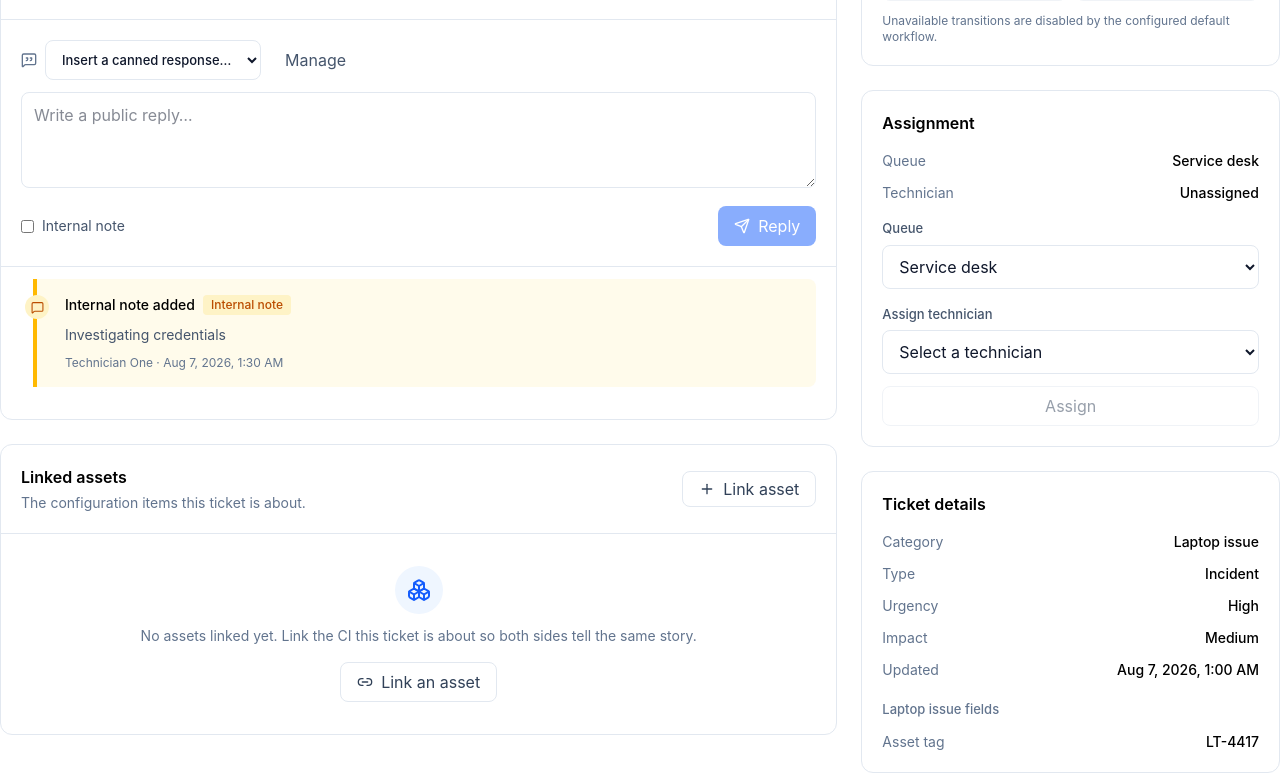
Scenario: TicketDetailPage › links an asset from the picker and shows it on the ticket
(page scrolled)
Click the button "Link an asset" at {"x": 419, "y": 682}, box [340,662,497,702]
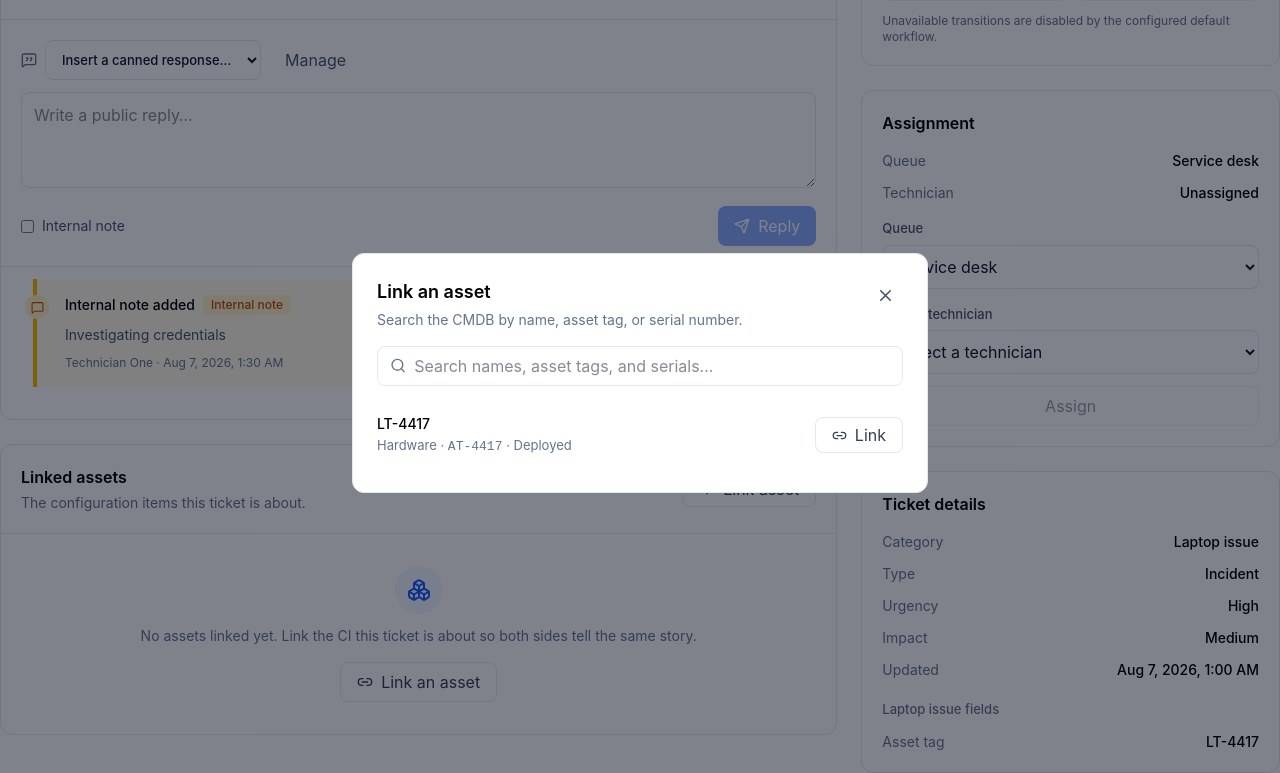
Expected: the text "LT-4417" is shown, [377,415,430,432]
Click the button "Link" at {"x": 859, "y": 435}, box [815,417,903,453]
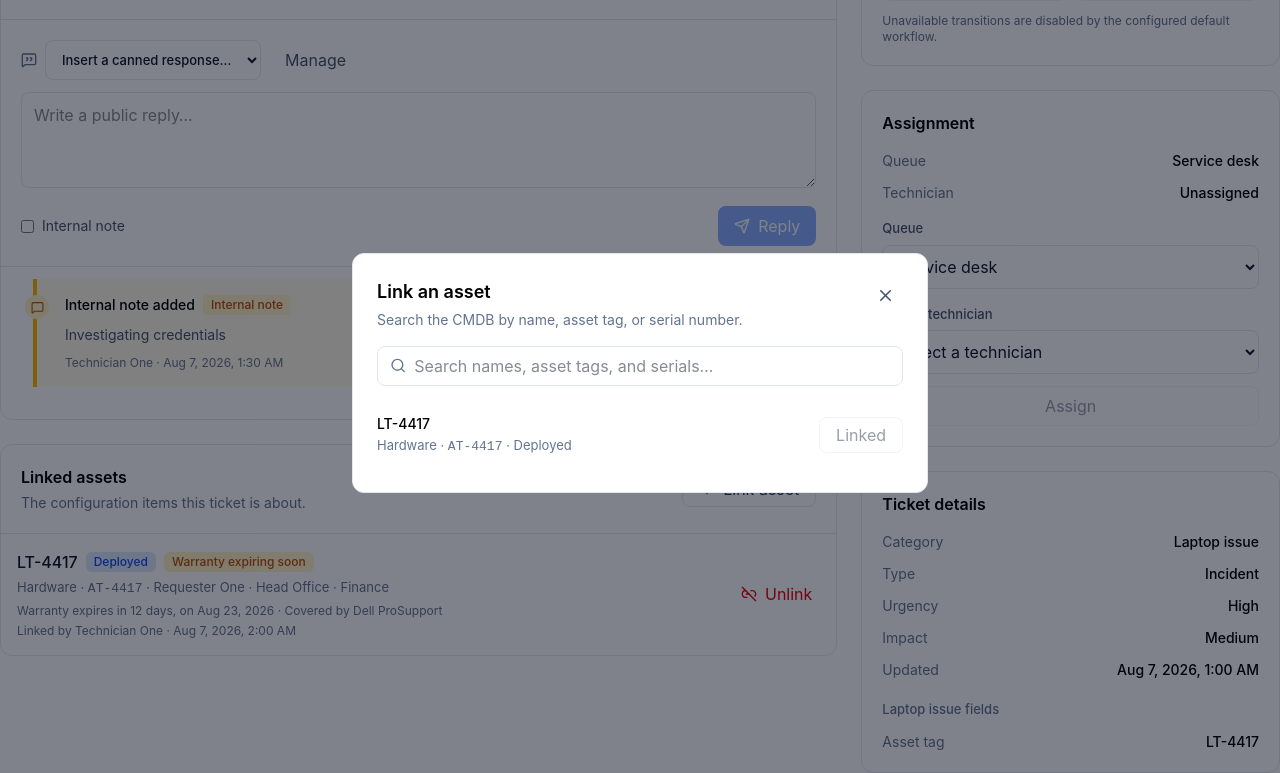
Expected: the text "Linked by Technician One · Aug 7, 2026, 2:00 AM" is shown, [17,622,296,638]
